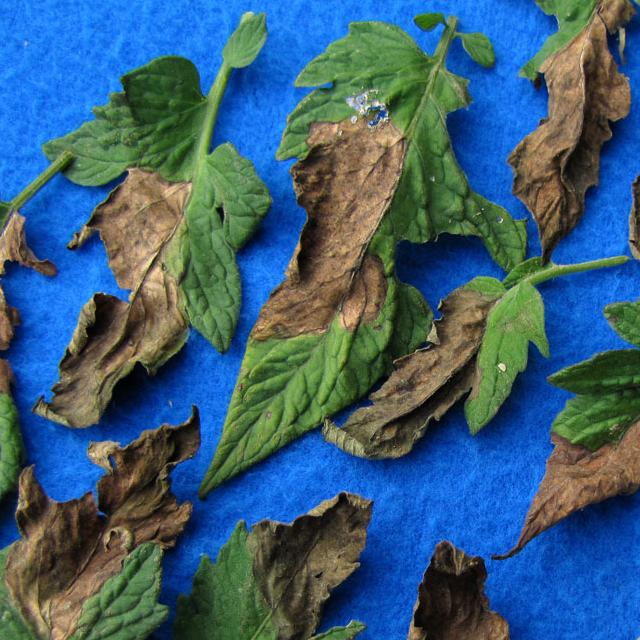Tomato leaf late blight: (216, 23, 458, 476), (40, 21, 263, 436), (319, 264, 591, 468), (0, 409, 211, 640), (143, 487, 406, 640), (518, 281, 640, 524), (264, 548, 547, 640), (0, 143, 48, 591), (569, 514, 640, 640), (626, 0, 640, 262)
